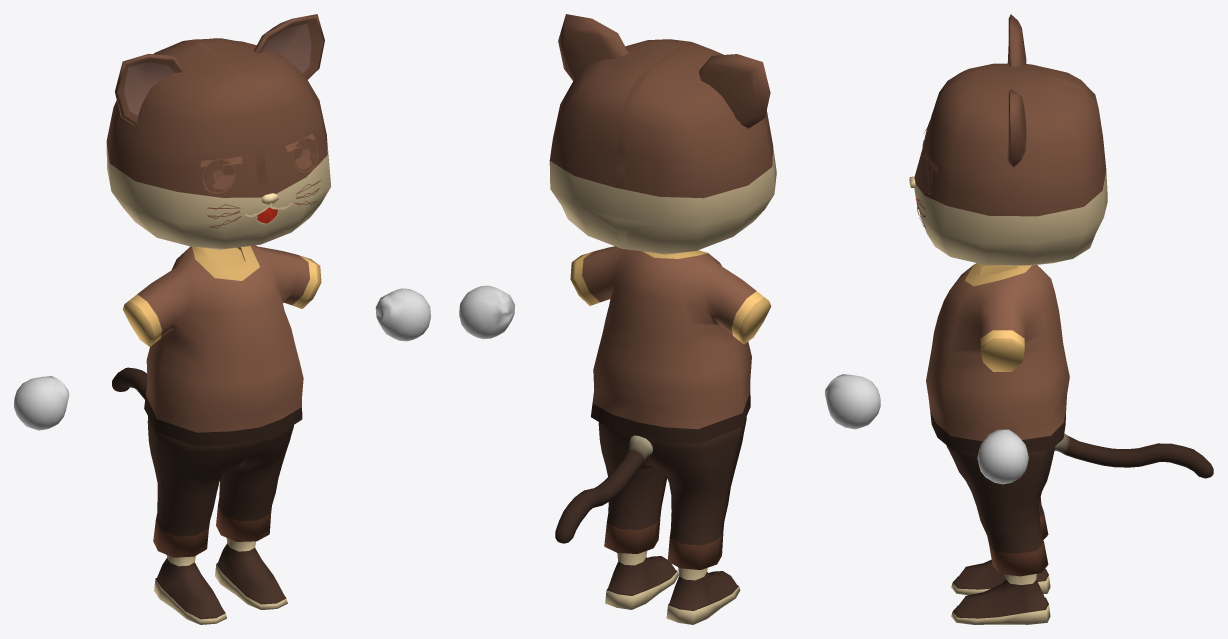
Rendered from cat.fbx.
3 renders of one model, left to right at view 1: azimuth 30°, elevation 25°; view 2: azimuth 150°, elevation 25°; view 3: azimuth 270°, elevation 25°, orthographic. The views are drawn at different scales.
Parts seen in each view (by area): view 1: Cat_body, Cat_head, Cat_head_knockout, Cat_hands_right, Cat_hands_left; view 2: Cat_body, Cat_head, Cat_head_knockout, Cat_hands_right, Cat_hands_left; view 3: Cat_body, Cat_head, Cat_hands_left, Cat_head_knockout.
Part boxes in pixels (x1,y1,x2,y2): Cat_body: [112, 245, 321, 624]; Cat_head: [106, 14, 330, 249]; Cat_head_knockout: [120, 19, 321, 245]; Cat_hands_right: [14, 376, 69, 430]; Cat_hands_left: [375, 288, 430, 341]; Cat_body: [555, 246, 771, 624]; Cat_head: [549, 14, 776, 254]; Cat_head_knockout: [569, 19, 747, 249]; Cat_hands_right: [824, 374, 880, 429]; Cat_hands_left: [459, 285, 514, 339]; Cat_body: [926, 263, 1213, 624]; Cat_head: [909, 14, 1107, 265]; Cat_hands_left: [977, 429, 1028, 484]; Cat_head_knockout: [909, 25, 1107, 227].
Bounding box in the file's own units: 1.49 × 1.94 × 0.9817.
